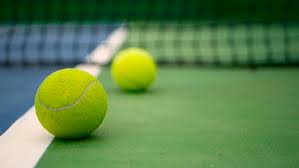tennis_ball: (35, 67, 107, 142), (110, 46, 158, 95)
